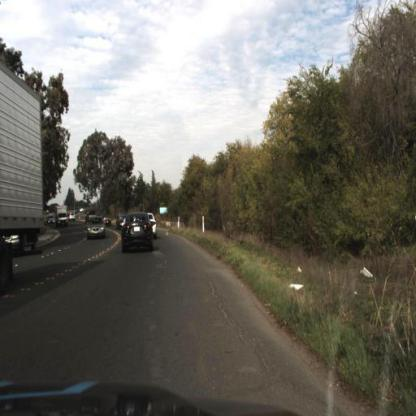car: (117, 213, 157, 251), (145, 204, 161, 240), (85, 215, 106, 242)
truck: (1, 63, 45, 305), (53, 200, 71, 235)
